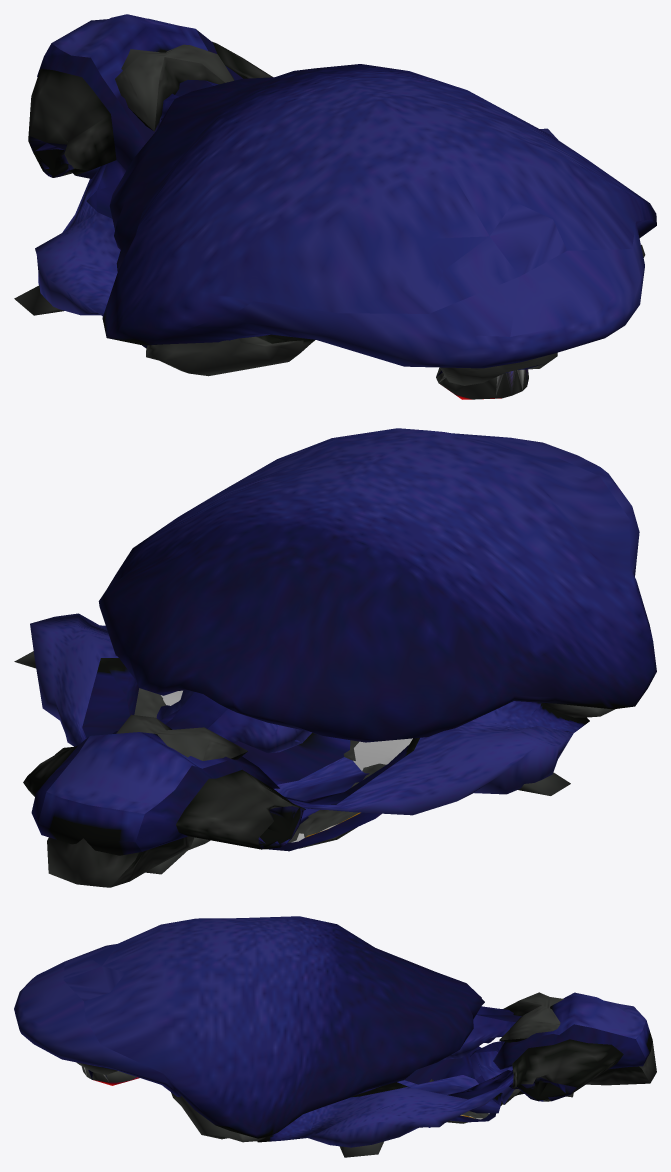
Rendered from npc_hopper_die_000228.obj.
3 views of the same model, one above another, from view 1: azimuth 30°, elevation 25°; view 2: azimuth 150°, elevation 25°; view 3: azimuth 270°, elevation 25° (orthographic). The views are drawn at different scales.
Visible parts, largest first — view 1: npc_hopper_npc_hopper_mesh; view 2: npc_hopper_npc_hopper_mesh; view 3: npc_hopper_npc_hopper_mesh.
Boxes of the visible parts, bbox=[...] form: npc_hopper_npc_hopper_mesh: bbox=[14, 14, 656, 399]; npc_hopper_npc_hopper_mesh: bbox=[14, 428, 656, 887]; npc_hopper_npc_hopper_mesh: bbox=[14, 916, 656, 1157].
Bounding box in the file's own units: 1.61 × 0.6959 × 2.42.
